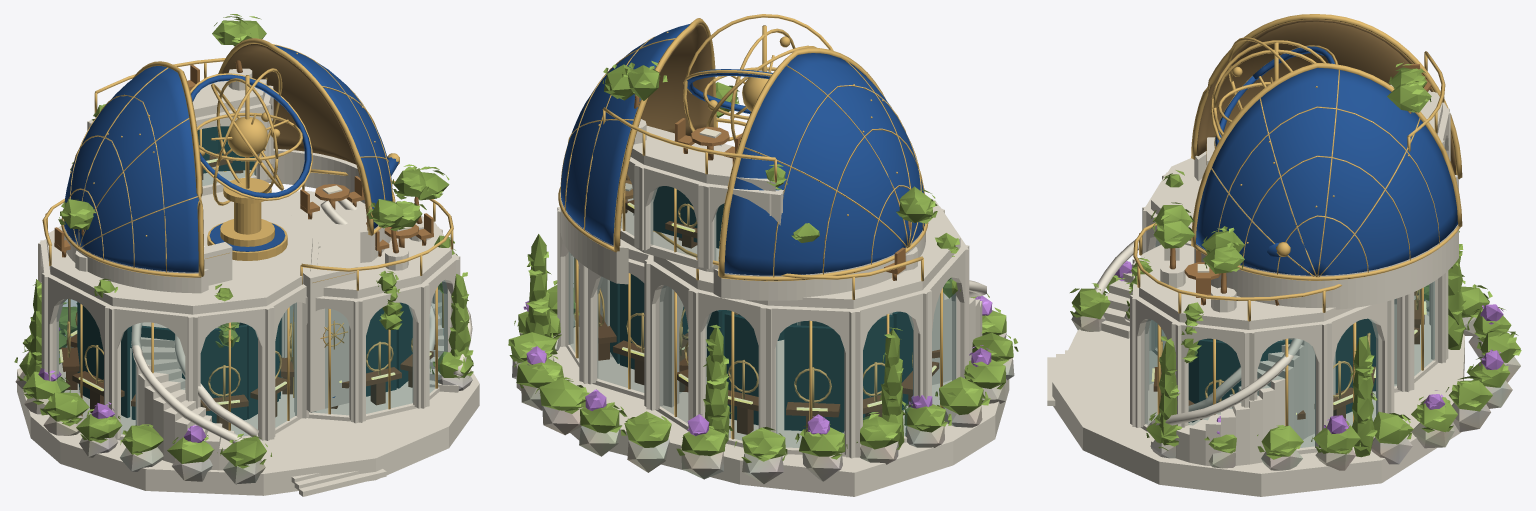
File: event.glb
3 views of the same model, side by side, from view 1: azimuth 30°, elevation 25°; view 2: azimuth 150°, elevation 25°; view 3: azimuth 270°, elevation 25° (orthographic). The views are drawn at different scales.
Visible parts, largest first — view 1: observatory-wings-L1-S1-observatory-warm-limestone, observatory-wings-L1-S2-observatory-warm-limestone, observatory-wings-L2-S2-observatory-warm-limestone, observatory-dome-L2-S2-observatory-celestial-blue, observatory-wings-L1-S5-observatory-clear-window-glass, observatory-dome-L3-S2-observatory-celestial-blue, observatory-wings-L1-S3-observatory-books-and-walnut, observatory-wings-L2-S5-observatory-clear-window-glass, observatory-wings-L2-S4-observatory-garden-colors, observatory-armillary-L1-S3-observatory-warm-gold, observatory-wings-L2-S3-observatory-books-and-walnut, observatory-wings-L1-S4-observatory-garden-colors (+22 smaller); view 2: observatory-dome-L2-S2-observatory-celestial-blue, observatory-wings-L1-S2-observatory-warm-limestone, observatory-wings-L1-S5-observatory-clear-window-glass, observatory-wings-L1-S1-observatory-warm-limestone, observatory-dome-L3-S2-observatory-celestial-blue, observatory-wings-L1-S3-observatory-books-and-walnut, observatory-wings-L1-S4-observatory-garden-colors, observatory-wings-L3-S4-observatory-garden-colors, observatory-wings-L3-S2-observatory-warm-limestone, observatory-wings-L2-S4-observatory-garden-colors, observatory-wings-L2-S2-observatory-warm-limestone, observatory-wings-L2-S5-observatory-clear-window-glass (+16 smaller); view 3: observatory-dome-L3-S2-observatory-celestial-blue, observatory-wings-L1-S1-observatory-warm-limestone, observatory-wings-L2-S2-observatory-warm-limestone, observatory-wings-L2-S4-observatory-garden-colors, observatory-wings-L2-S5-observatory-clear-window-glass, observatory-wings-L2-S1-observatory-warm-limestone, observatory-dome-L2-S2-observatory-celestial-blue, observatory-wings-L3-S4-observatory-garden-colors, observatory-dome-L3-S1-observatory-warm-limestone, observatory-dome-L3-S5-observatory-warm-gold, observatory-wings-L1-S2-observatory-warm-limestone, observatory-wings-L2-S3-observatory-books-and-walnut (+16 smaller).
Boxes of the visible parts, <box> form: observatory-wings-L1-S1-observatory-warm-limestone: <box>17,348,479,496</box>; observatory-wings-L1-S2-observatory-warm-limestone: <box>38,191,320,440</box>; observatory-wings-L2-S2-observatory-warm-limestone: <box>263,190,460,423</box>; observatory-dome-L2-S2-observatory-celestial-blue: <box>64,66,198,272</box>; observatory-wings-L1-S5-observatory-clear-window-glass: <box>57,299,296,435</box>; observatory-dome-L3-S2-observatory-celestial-blue: <box>222,44,392,230</box>; observatory-wings-L1-S3-observatory-books-and-walnut: <box>54,227,294,430</box>; observatory-wings-L2-S5-observatory-clear-window-glass: <box>245,280,447,414</box>; observatory-wings-L2-S4-observatory-garden-colors: <box>14,164,473,468</box>; observatory-armillary-L1-S3-observatory-warm-gold: <box>197,75,302,260</box>; observatory-wings-L2-S3-observatory-books-and-walnut: <box>300,176,435,408</box>; observatory-wings-L1-S4-observatory-garden-colors: <box>23,162,239,463</box>; observatory-dome-L2-S2-observatory-celestial-blue: <box>724,53,924,275</box>; observatory-wings-L1-S2-observatory-warm-limestone: <box>644,198,969,458</box>; observatory-wings-L1-S5-observatory-clear-window-glass: <box>660,278,955,447</box>; observatory-wings-L1-S1-observatory-warm-limestone: <box>516,298,1009,496</box>; observatory-dome-L3-S2-observatory-celestial-blue: <box>560,24,713,245</box>; observatory-wings-L1-S3-observatory-books-and-walnut: <box>677,247,939,434</box>; observatory-wings-L1-S4-observatory-garden-colors: <box>514,186,1006,459</box>; observatory-wings-L3-S4-observatory-garden-colors: <box>508,61,1018,463</box>; observatory-wings-L3-S2-observatory-warm-limestone: <box>627,125,783,269</box>; observatory-wings-L2-S4-observatory-garden-colors: <box>514,82,1005,456</box>; observatory-wings-L2-S2-observatory-warm-limestone: <box>557,144,800,407</box>; observatory-wings-L2-S5-observatory-clear-window-glass: <box>569,252,799,392</box>; observatory-dome-L3-S2-observatory-celestial-blue: <box>1196,68,1457,275</box>; observatory-wings-L1-S1-observatory-warm-limestone: <box>1047,294,1520,496</box>; observatory-wings-L2-S2-observatory-warm-limestone: <box>1130,244,1396,450</box>; observatory-wings-L2-S4-observatory-garden-colors: <box>1070,202,1515,457</box>; observatory-wings-L2-S5-observatory-clear-window-glass: <box>1145,319,1377,447</box>; observatory-wings-L2-S1-observatory-warm-limestone: <box>1071,311,1507,470</box>; observatory-dome-L2-S2-observatory-celestial-blue: <box>1196,19,1456,174</box>; observatory-wings-L3-S4-observatory-garden-colors: <box>1155,62,1509,453</box>; observatory-dome-L3-S1-observatory-warm-limestone: <box>1194,224,1458,309</box>; observatory-dome-L3-S5-observatory-warm-gold: <box>1191,63,1462,280</box>; observatory-wings-L1-S2-observatory-warm-limestone: <box>1142,137,1448,391</box>; observatory-wings-L2-S3-observatory-books-and-walnut: <box>1153,249,1375,422</box>.
Size of the model in its own units: 2.91 by 2.31 by 2.79.
